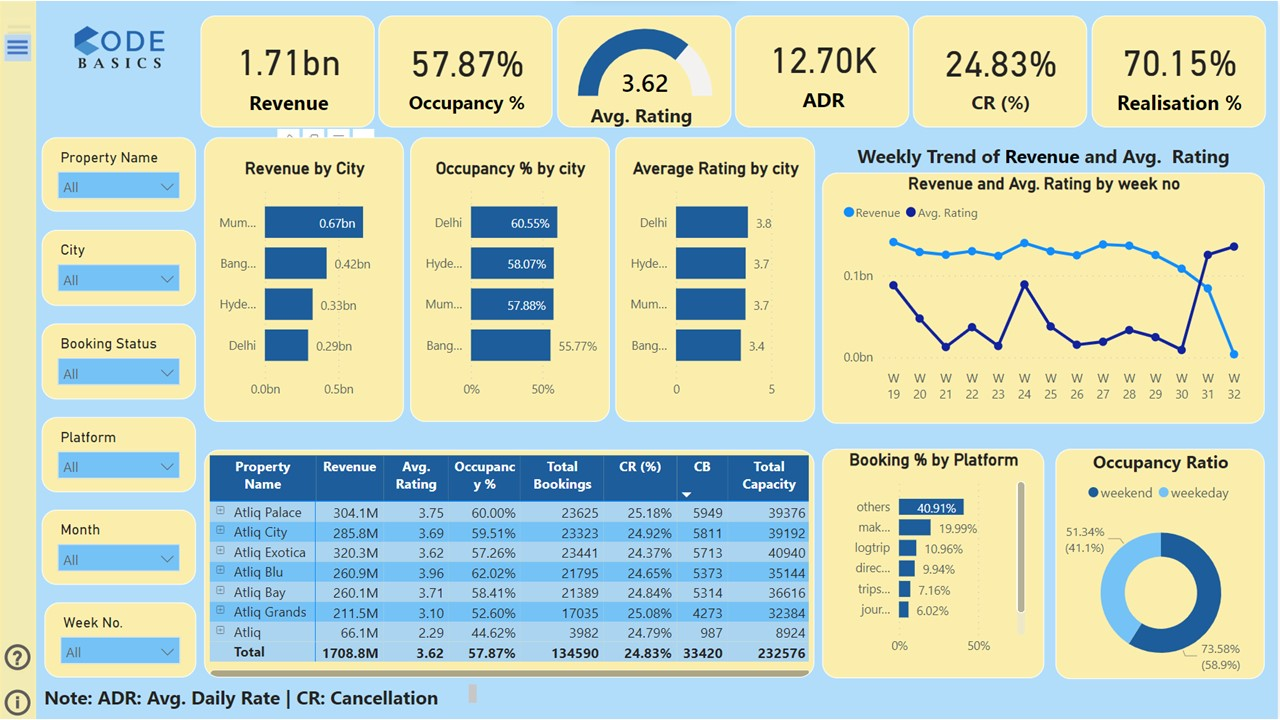

The page's visual inventory and layout, read from the dashboard file:
{"tool":"powerbi","page":{"name":"Overall Analysis","canvas":[1280,720],"ordinal":0},"visuals":[{"type":"pivotTable","fields":{"Rows":["dim_hotels.property_name","dim_hotels.city"],"Values":["Key Measures.Total Revenue  Realised $","Key Measures.Average Rating","Key Measures.Occupancy %","Key Measures.Total Bookings","Key Measures.Cancellation %","Key Measures.Total cancelled bookings","Key Measures.Total Capacity"]},"box":[204.7,449.3,611.5,228.4],"z":0},{"type":"actionButton","title":"qs","box":[0,684.5,35.5,35.5],"z":0,"group":"g1"},{"type":"actionButton","title":"info ","box":[0,639.1,35.5,35],"z":1000,"group":"g1"},{"type":"actionButton","title":"qs","box":[1.8,683.9,31.4,33.2],"z":1000},{"type":"actionButton","title":"menu button","box":[0,29.4,35.3,35.3],"z":2000,"group":"g1"},{"type":"actionButton","title":"info button","box":[0,643.2,35,35.6],"z":2000},{"type":"actionButton","title":"qs","box":[1.8,683.9,31.4,33.2],"z":3000},{"type":"slicer","fields":{"Values":["dim_hotels.property_name"]},"box":[41.5,136.5,154.3,74.8],"z":4000},{"type":"actionButton","title":"menu","box":[0,9.5,38.3,44.4],"z":5000},{"type":"actionButton","title":"info button","box":[0,643.2,35,35.6],"z":6000},{"type":"slicer","fields":{"Values":["dim_hotels.city"]},"box":[41.5,229,154.3,76],"z":7000},{"type":"slicer","fields":{"Values":["fact_bookings.booking_status"]},"box":[41.5,322.6,154.3,76],"z":8000},{"type":"slicer","fields":{"Values":["fact_bookings.booking_platform"]},"box":[41.7,416.3,154.2,75],"z":9000},{"type":"slicer","fields":{"Values":["dim_date.mmm yy.Variation.Date Hierarchy.Month"]},"box":[41.7,509,154.2,75],"z":10000},{"type":"slicer","fields":{"Values":["dim_date.week no"]},"box":[44.2,601.7,151.7,75],"z":11000},{"type":"card","fields":{"Values":["Key Measures.Total Revenue  Realised $"]},"box":[200.9,15,174.7,112.3],"z":12000},{"type":"card","fields":{"Values":["Key Measures.ADR"]},"box":[736.4,15,174.7,112.3],"z":13000},{"type":"gauge","title":"Rating","fields":{"Y":["Key Measures.Average Rating"]},"box":[557.9,15,174.7,112.3],"z":14000},{"type":"card","fields":{"Values":["Key Measures.Occupancy %"]},"box":[379.4,15,174.7,112.3],"z":15000},{"type":"clusteredBarChart","title":"Booking % by Platform","fields":{"Category":["fact_bookings.booking_platform"],"Y":["Key Measures.Booking % by Platform"]},"box":[823.7,448.1,222.2,229.6],"z":16000},{"type":"card","fields":{"Values":["Key Measures.Realisation %"]},"box":[1093.5,15,174,112],"z":17000},{"type":"card","fields":{"Values":["Key Measures.Cancellation %"]},"box":[914.9,15,174,112],"z":18000},{"type":"clusteredBarChart","title":"Revenue by City","fields":{"Y":["Key Measures.Total Revenue  Realised $"],"Category":["dim_hotels.city"]},"box":[204.7,136.7,200,285],"z":19000},{"type":"clusteredBarChart","fields":{"Category":["dim_hotels.city"],"Y":["Key Measures.Occupancy %"]},"box":[410.5,136.7,199.7,284.6],"z":20000},{"type":"clusteredBarChart","fields":{"Y":["Key Measures.Average Rating"],"Category":["dim_hotels.city"]},"box":[616,136.7,200,284.7],"z":21000},{"type":"lineChart","fields":{"Category":["dim_date.week no"],"Y":["Key Measures.Total Revenue  Realised $"],"Y2":["Key Measures.Average Rating"]},"box":[823.7,172.2,443.1,250.9],"z":22000},{"type":"donutChart","title":"Occupancy Ratio","fields":{"Y":["Key Measures.Occupancy %"],"Category":["dim_date.day_type"]},"box":[1057.1,447.9,209.3,230],"z":23000},{"type":"textbox","box":[586.6,96.1,129.8,49.9],"z":24000},{"type":"shape","box":[0,0,35.6,720.5],"z":25000},{"type":"textbox","box":[823.7,137.3,443.1,47.4],"z":26000},{"type":"image","box":[58.2,15.4,122.3,62.9],"z":27000},{"type":"group","id":"g1","title":"Menu Bar","box":[0,29.4,35.5,690.6],"z":29000},{"type":"textbox","box":[39,679,443.5,40.5],"z":30000}]}

Visuals, with their boxes in screenshot pixels (x1, y1, x2, y2), scaled from the page's 1280x720 canvas onto the 1280x720 screenshot:
pivotTable - dim_hotels.property_name x dim_hotels.city: select_region(205, 449, 816, 678)
"qs" actionButton: select_region(0, 684, 36, 719)
"info " actionButton: select_region(0, 639, 36, 674)
"qs" actionButton: select_region(2, 684, 33, 717)
"menu button" actionButton: select_region(0, 29, 35, 65)
"info button" actionButton: select_region(0, 643, 35, 679)
"qs" actionButton: select_region(2, 684, 33, 717)
slicer - dim_hotels.property_name: select_region(42, 136, 196, 211)
"menu" actionButton: select_region(0, 10, 38, 54)
"info button" actionButton: select_region(0, 643, 35, 679)
slicer - dim_hotels.city: select_region(42, 229, 196, 305)
slicer - fact_bookings.booking_status: select_region(42, 323, 196, 399)
slicer - fact_bookings.booking_platform: select_region(42, 416, 196, 491)
slicer - dim_date.mmm yy.Variation.Date Hierarchy.Month: select_region(42, 509, 196, 584)
slicer - dim_date.week no: select_region(44, 602, 196, 677)
card - Key Measures.Total Revenue  Realised $: select_region(201, 15, 376, 127)
card - Key Measures.ADR: select_region(736, 15, 911, 127)
"Rating" gauge: select_region(558, 15, 733, 127)
card - Key Measures.Occupancy %: select_region(379, 15, 554, 127)
"Booking % by Platform" clusteredBarChart: select_region(824, 448, 1046, 678)
card - Key Measures.Realisation %: select_region(1094, 15, 1268, 127)
card - Key Measures.Cancellation %: select_region(915, 15, 1089, 127)
"Revenue by City" clusteredBarChart: select_region(205, 137, 405, 422)
clusteredBarChart - dim_hotels.city x Key Measures.Occupancy %: select_region(410, 137, 610, 421)
clusteredBarChart - Key Measures.Average Rating x dim_hotels.city: select_region(616, 137, 816, 421)
lineChart - dim_date.week no x Key Measures.Total Revenue  Realised $: select_region(824, 172, 1267, 423)
"Occupancy Ratio" donutChart: select_region(1057, 448, 1266, 678)
textbox: select_region(587, 96, 716, 146)
shape: select_region(0, 0, 36, 719)
textbox: select_region(824, 137, 1267, 185)
image: select_region(58, 15, 180, 78)
"Menu Bar" group: select_region(0, 29, 36, 719)
textbox: select_region(39, 679, 482, 719)
